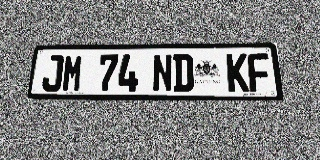4: (117, 54, 138, 92)
7: (97, 54, 118, 92)
D: (173, 54, 194, 92)
F: (247, 53, 271, 92)
J: (41, 55, 64, 92)
K: (226, 53, 249, 92)
M: (61, 55, 84, 92)
N: (152, 54, 173, 92)
